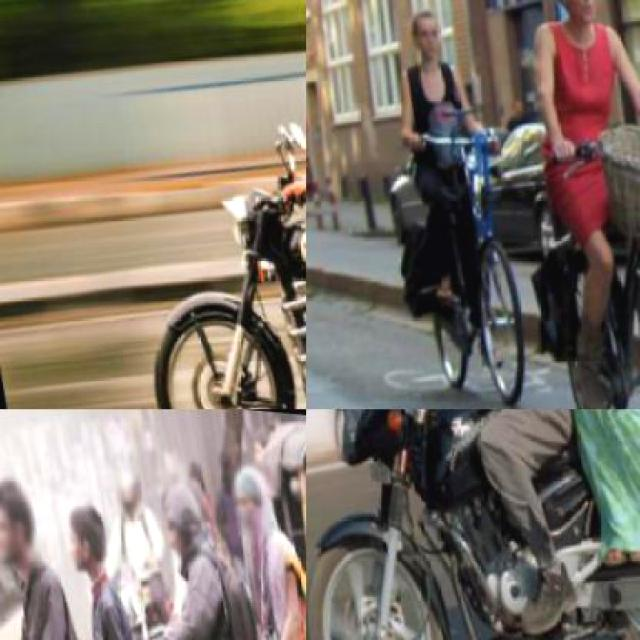With Helmet: (109, 448, 149, 510)
Without Helmet: (142, 451, 220, 571), (0, 443, 52, 572), (224, 444, 278, 530), (61, 493, 112, 572), (400, 0, 454, 62), (537, 0, 611, 34)
